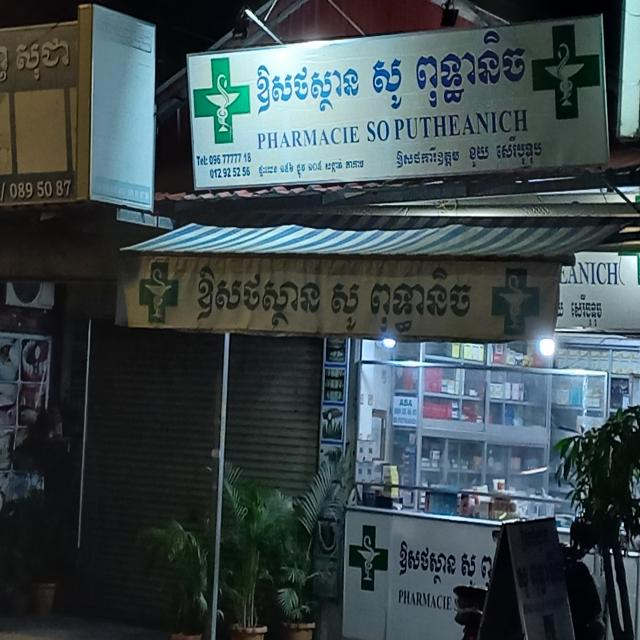2: (251, 27, 534, 131), (188, 260, 479, 340), (392, 132, 547, 176), (257, 155, 367, 179)
283: (208, 164, 252, 176)
424: (7, 177, 73, 201)
467: (207, 152, 256, 165)
Yolov11kh: (394, 539, 461, 587), (13, 36, 72, 83), (568, 291, 617, 329)
